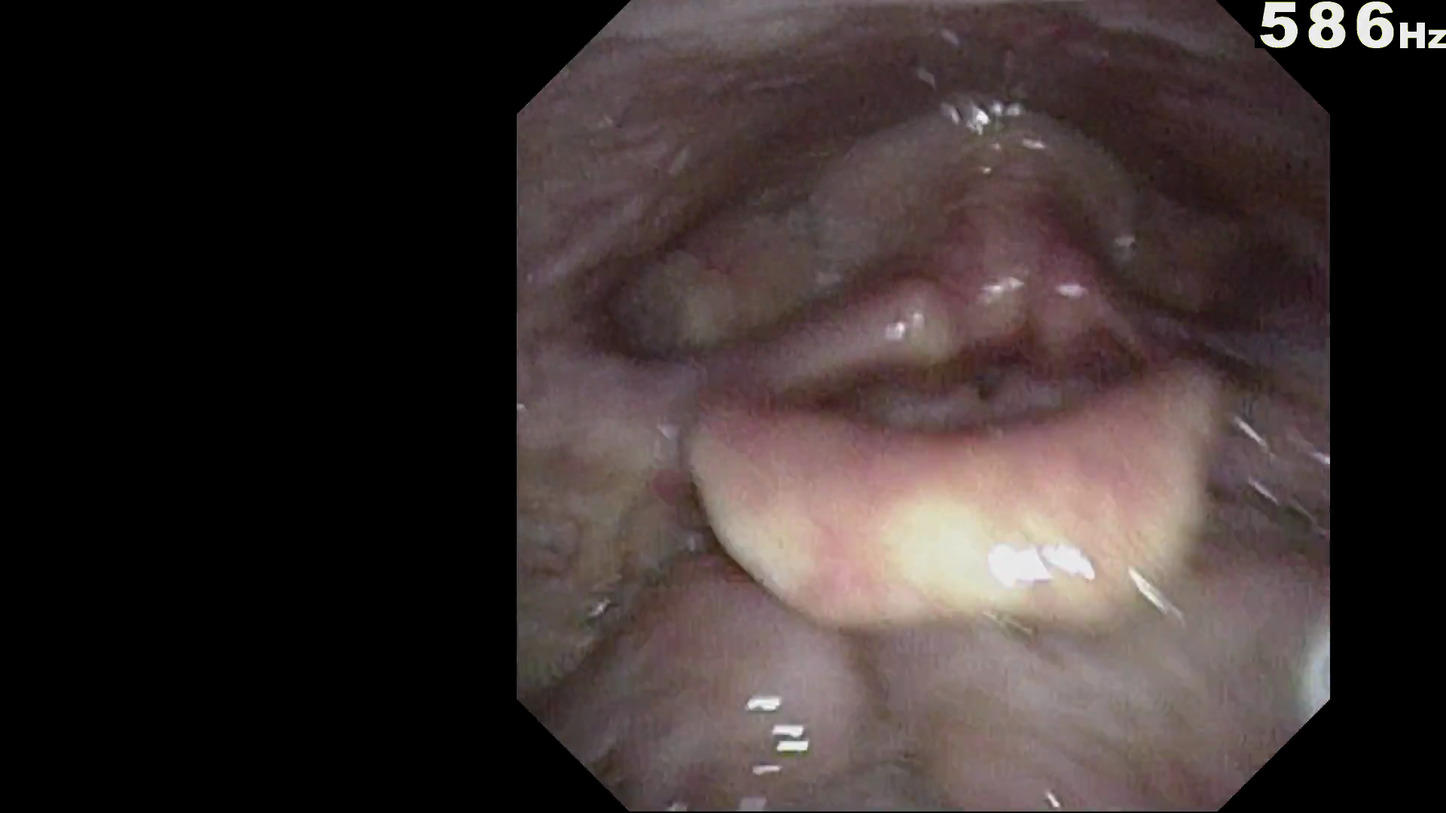epiglottis: (705, 380, 1252, 560)
